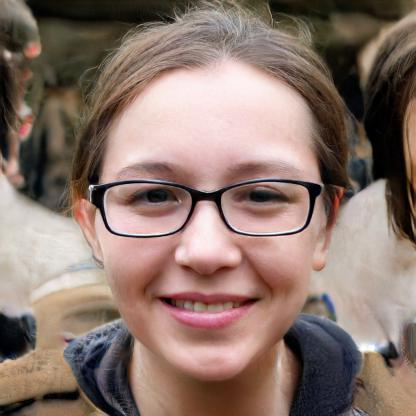glasses: (83, 176, 326, 241)
